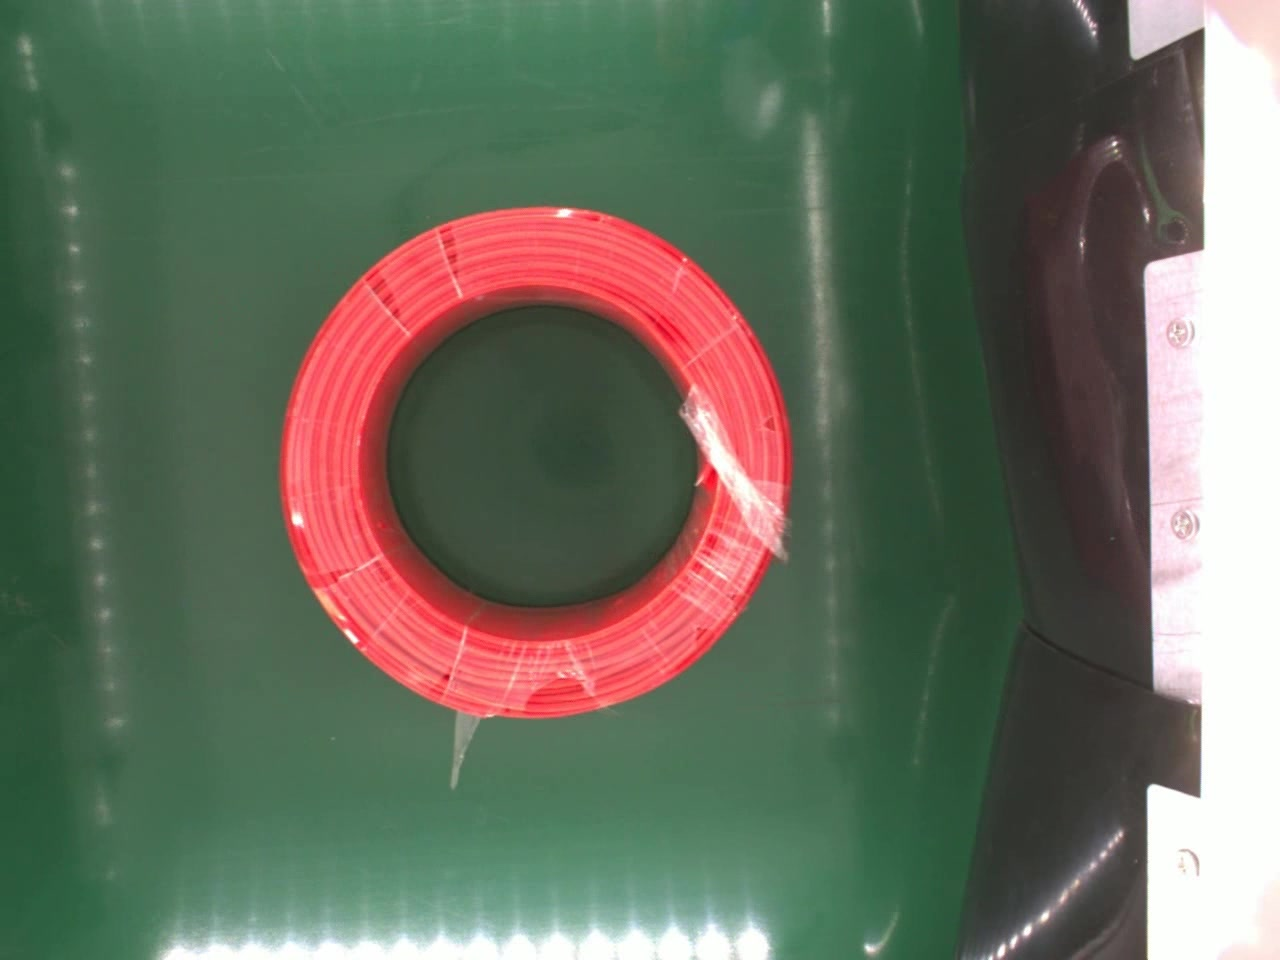red: (280, 204, 789, 720)
